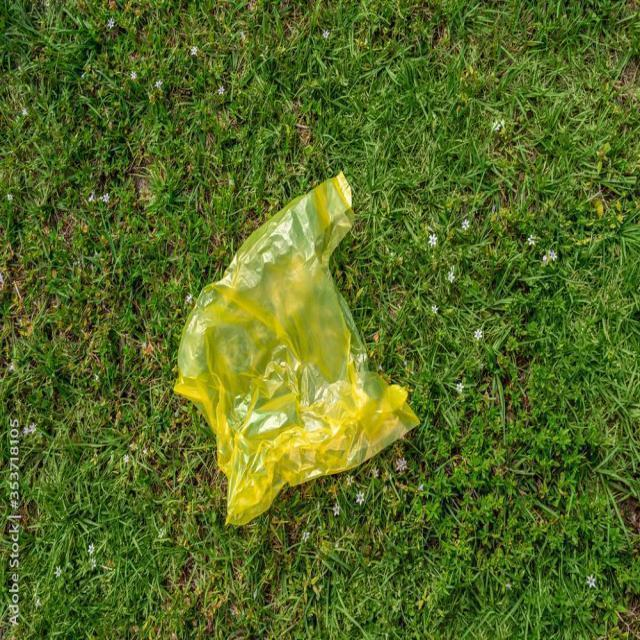Plastic_Bag: (176, 175, 407, 525)
